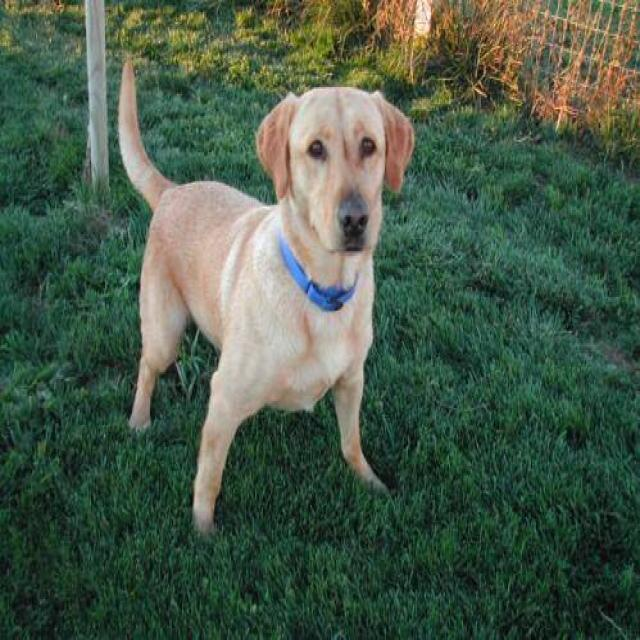dogs: (92, 39, 412, 544)
